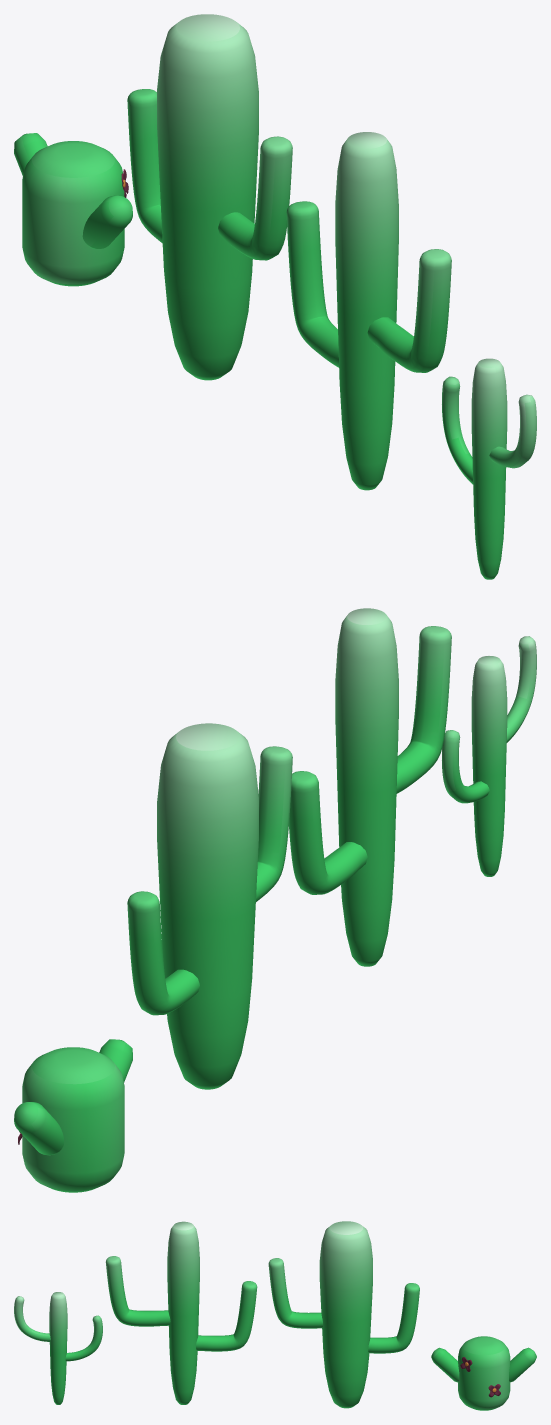
Rendered from cacto.fbx.
3 views of the same model, one above another, from view 1: azimuth 30°, elevation 25°; view 2: azimuth 150°, elevation 25°; view 3: azimuth 270°, elevation 25° (orthographic). The views are drawn at different scales.
Visible parts, largest first — view 1: cacto3, cacto1, cacto4, cacto2; view 2: cacto3, cacto1, cacto4, cacto2; view 3: cacto3, cacto1, cacto4, cacto2.
Part boxes in pixels (x1,y1,x2,y2): cacto3: (127,14,292,380); cacto1: (286,132,451,490); cacto4: (14,133,132,286); cacto2: (442,358,536,579); cacto3: (127,723,292,1089); cacto1: (289,608,451,966); cacto4: (14,1039,132,1192); cacto2: (442,636,536,876); cacto3: (268,1221,419,1408); cacto1: (105,1221,257,1404); cacto4: (431,1336,536,1410); cacto2: (14,1292,102,1404).
Size of the model in its own units: 434 by 1580 by 4177.
Materials: 3 (1 with a texture image).
